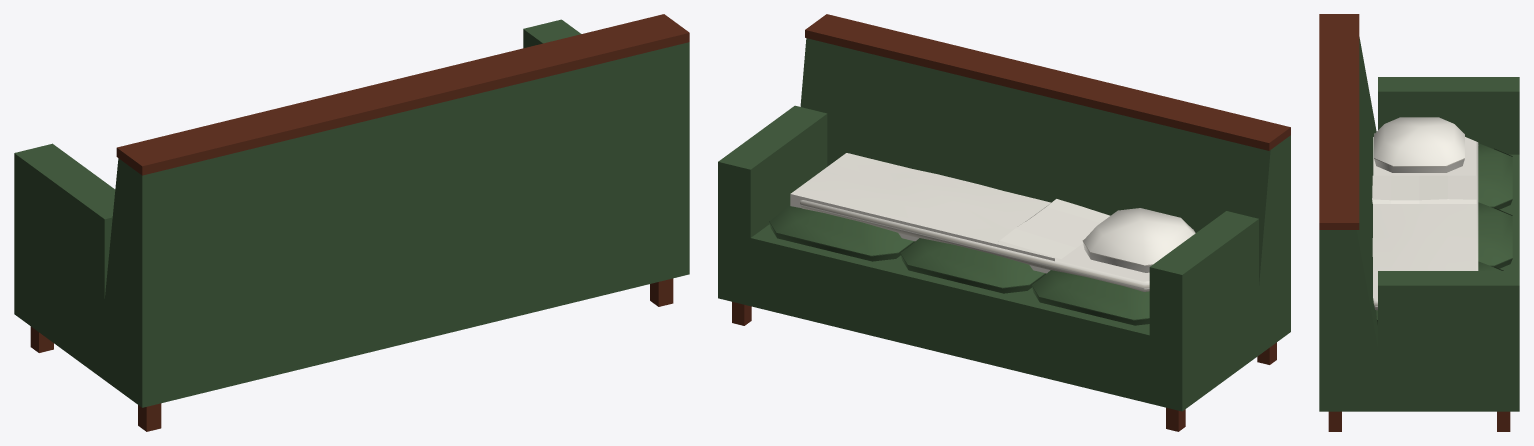
3 renders of one model, left to right at view 1: azimuth 30°, elevation 25°; view 2: azimuth 150°, elevation 25°; view 3: azimuth 270°, elevation 25°, orthographic. The views are drawn at different scales.
Parts seen in each view (by area): view 1: parametric-variant-sofa-1st-a83de58bb86cff3de0fe; view 2: parametric-variant-sofa-1st-a83de58bb86cff3de0fe; view 3: parametric-variant-sofa-1st-a83de58bb86cff3de0fe.
Boxes of the visible parts, box(x1,y1,x2,y2) form: parametric-variant-sofa-1st-a83de58bb86cff3de0fe: box(14, 14, 689, 431); parametric-variant-sofa-1st-a83de58bb86cff3de0fe: box(718, 14, 1290, 431); parametric-variant-sofa-1st-a83de58bb86cff3de0fe: box(1319, 14, 1519, 431).
Bounding box in the file's own units: 1.85 × 0.88 × 0.75.
